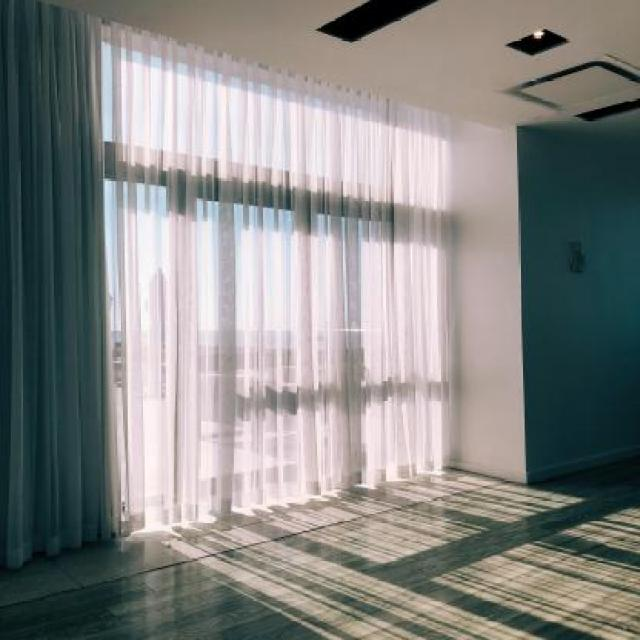Floor: (0, 456, 640, 639)
